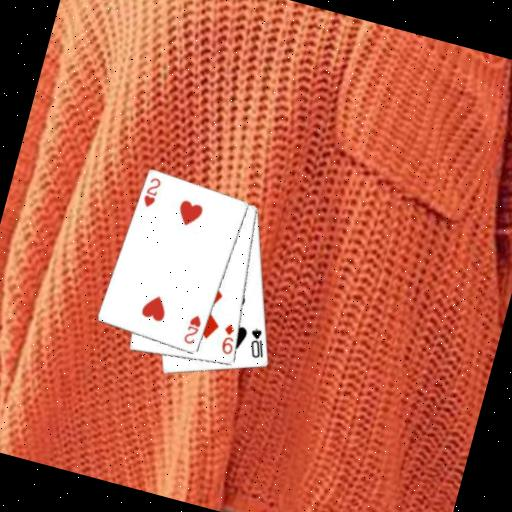10S: (242, 323, 272, 361)
2H: (138, 173, 163, 211), (179, 311, 204, 348)
9D: (215, 320, 240, 357)
